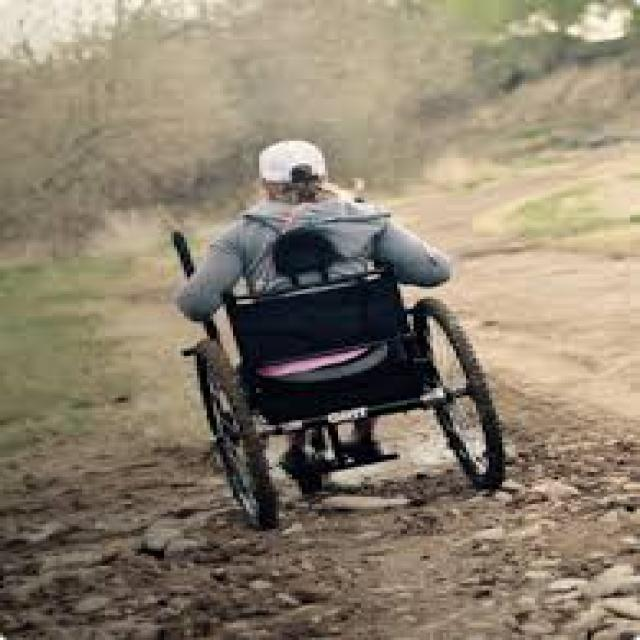wheelchairs: (178, 274, 552, 541)
